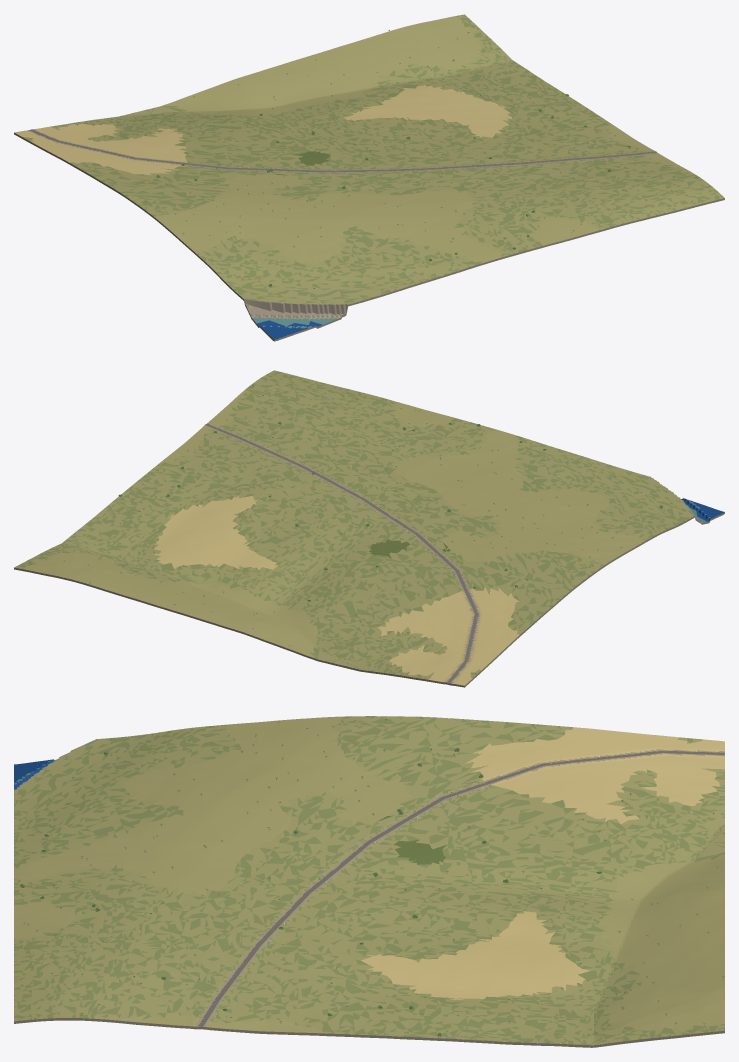
Rendered from parca_-3_-5-yakin.glb.
3 views of the same model, one above another, from view 1: azimuth 30°, elevation 25°; view 2: azimuth 150°, elevation 25°; view 3: azimuth 270°, elevation 25° (orthographic). The views are drawn at different scales.
Parts seen in each view (by area): view 1: parca_-3_-5_arazi, parca_-3_-5_yollar, parca_-3_-5_bitkiler; view 2: parca_-3_-5_arazi, parca_-3_-5_yollar, parca_-3_-5_bitkiler; view 3: parca_-3_-5_arazi, parca_-3_-5_yollar, parca_-3_-5_bitkiler.
Part boxes in pixels (bbox=[...]): parca_-3_-5_arazi: bbox=[14, 14, 724, 341]; parca_-3_-5_yollar: bbox=[29, 129, 656, 172]; parca_-3_-5_bitkiler: bbox=[101, 21, 697, 302]; parca_-3_-5_arazi: bbox=[14, 370, 724, 687]; parca_-3_-5_yollar: bbox=[205, 423, 478, 683]; parca_-3_-5_bitkiler: bbox=[30, 385, 670, 670]; parca_-3_-5_arazi: bbox=[14, 716, 724, 1047]; parca_-3_-5_yollar: bbox=[198, 751, 724, 1026]; parca_-3_-5_bitkiler: bbox=[14, 718, 724, 1042].
Size of the model in its own units: 1001 by 82.53 by 1000.
